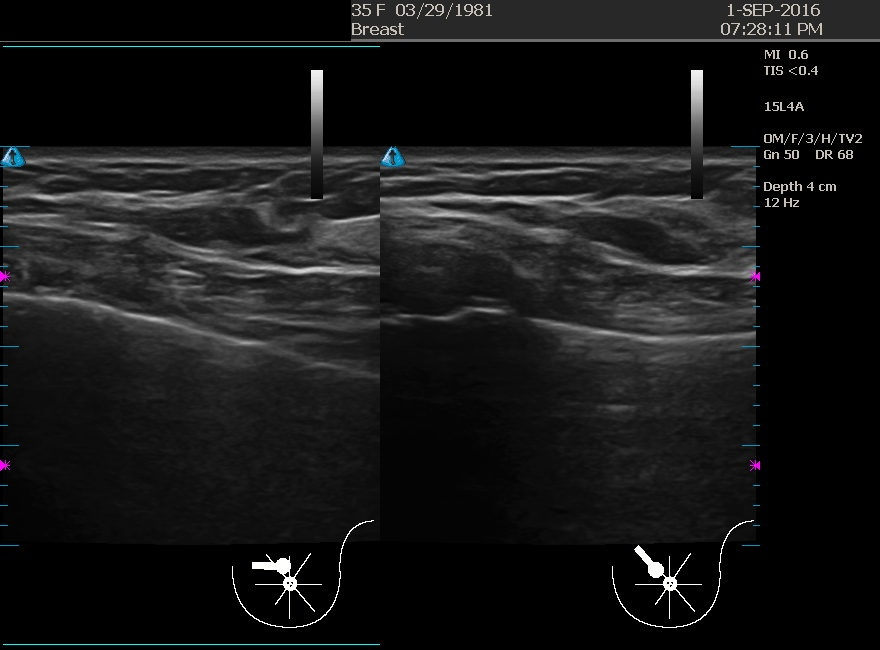BIRADS_3: (110, 185, 310, 385), (537, 201, 737, 401)
